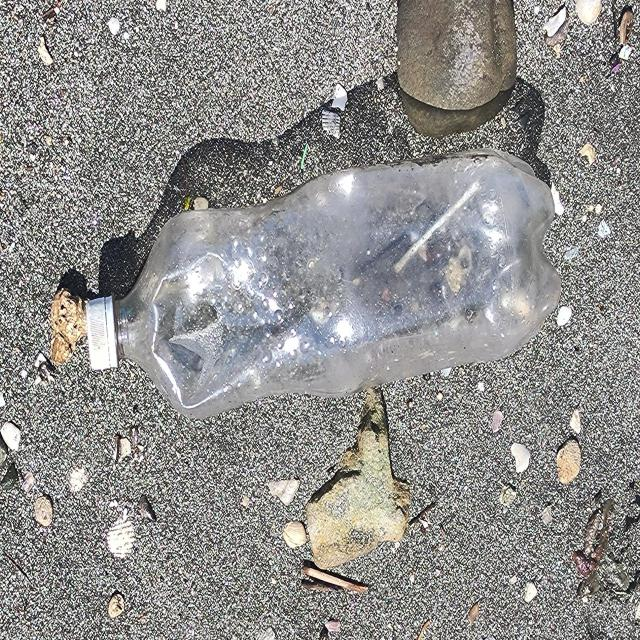plastic_waste: (85, 152, 562, 418)
